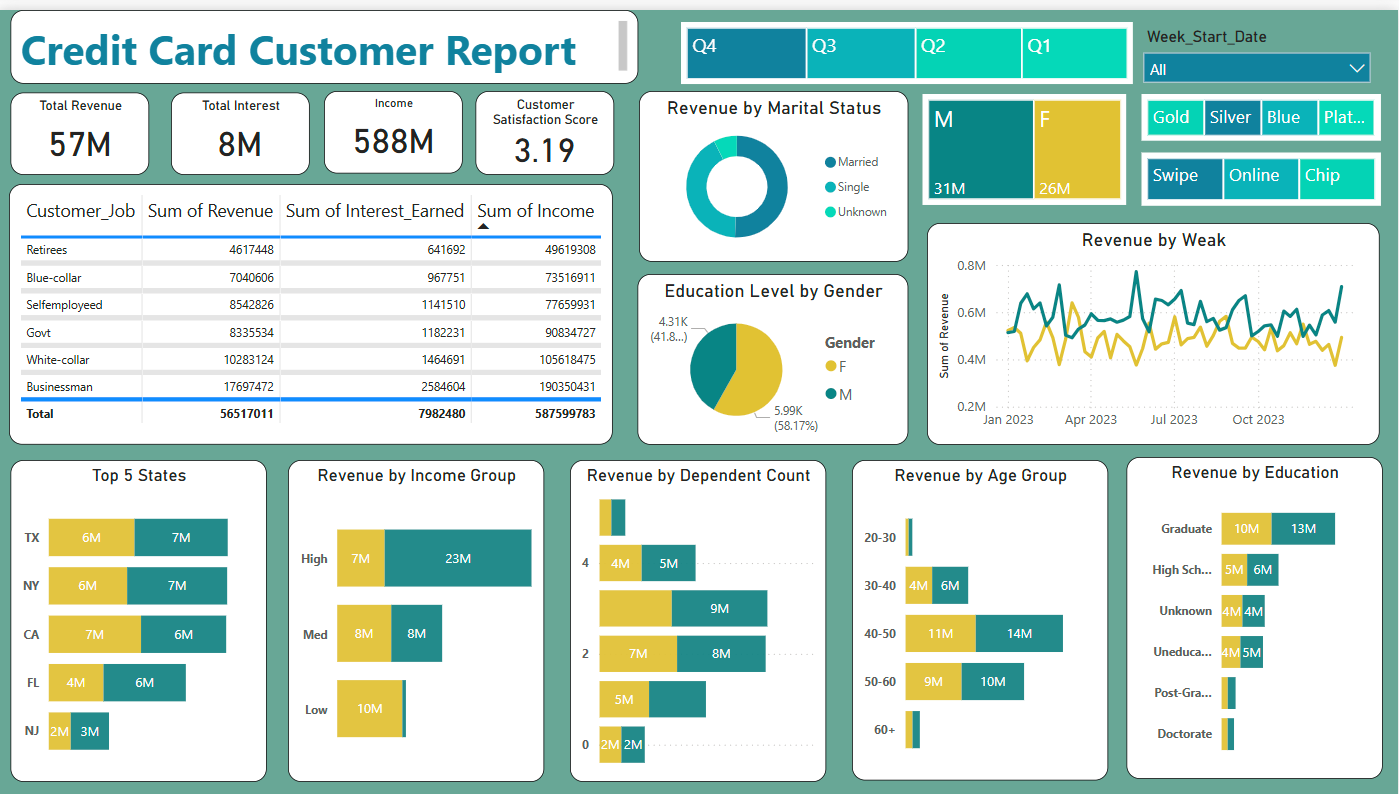

The page's visual inventory and layout, read from the dashboard file:
{"tool":"powerbi","page":{"name":"CC Customer","canvas":[1280,720],"ordinal":1},"visuals":[{"type":"textbox","box":[11.8,0,573.5,67.6],"z":0},{"type":"barChart","title":"Revenue by Income Group","fields":{"Y":["Sum(public cc_detail.Revenue)"],"Category":["public cust_detail.IncomeGroup"],"Series":["public cust_detail.Gender"]},"box":[266.2,410.3,233.8,294.1],"z":1000},{"type":"tableEx","fields":{"Values":["public cust_detail.Customer_Job","Sum(public cc_detail.Revenue)","Sum(public cc_detail.Interest_Earned)","Sum(public cust_detail.Income)"]},"box":[11,159.1,551.3,237.8],"z":2000},{"type":"card","title":"Total Revenue","fields":{"Values":["Sum(public cc_detail.Revenue)"]},"box":[11.8,75,126.5,75],"z":3000},{"type":"card","title":"Income","fields":{"Values":["Sum(public cust_detail.Income)"]},"box":[298.5,73.5,126.5,75],"z":4000},{"type":"card","title":"Total Interest","fields":{"Values":["Sum(public cc_detail.Interest_Earned)"]},"box":[158.8,75,126.5,75],"z":5000},{"type":"card","title":"Customer Satisfaction Score","fields":{"Values":["Avg(public cust_detail.Cust_Satisfaction_Score)"]},"box":[436.8,73.5,126.5,76.5],"z":6000},{"type":"slicer","fields":{"Values":["public cc_detail.Week_Start_Date"]},"box":[1037.1,11.4,227.1,65.7],"z":7000},{"type":"treemap","fields":{"Group":["public cc_detail.Qtr"],"Values":["Avg(public cc_detail.Client_Num)"]},"box":[625.3,11,412.7,56.7],"z":8000},{"type":"treemap","fields":{"Values":["Avg(public cc_detail.Client_Num)"],"Group":["public cc_detail.Card_Category"]},"box":[1045.7,77.1,218.6,42.9],"z":9000},{"type":"treemap","fields":{"Values":["Avg(public cc_detail.Client_Num)"],"Group":["public cc_detail.Use Chip"]},"box":[1045.7,130,218.6,48.6],"z":10000},{"type":"lineChart","title":"Revenue by Weak","fields":{"Y":["Sum(public cc_detail.Revenue)"],"Series":["public cust_detail.Gender"],"Category":["public cc_detail.Week_Start_Date.Variation.Date Hierarchy.Year","public cc_detail.Week_Start_Date.Variation.Date Hierarchy.Month","public cc_detail.Week_Start_Date.Variation.Date Hierarchy.Day"]},"box":[850,194.1,413.2,202.9],"z":11000},{"type":"treemap","fields":{"Group":["public cust_detail.Gender"],"Values":["Sum(public cc_detail.Revenue)"]},"box":[844.6,77,186.3,101.3],"z":12000},{"type":"barChart","title":"Revenue by Age Group","fields":{"Y":["Sum(public cc_detail.Revenue)"],"Category":["public cust_detail.AgeGroup"],"Series":["public cust_detail.Gender"]},"box":[780.9,410.3,233.8,292.6],"z":13000},{"type":"barChart","title":"Revenue by Dependent Count","fields":{"Y":["Sum(public cc_detail.Revenue)"],"Category":["public cust_detail.Dependent_Count"],"Series":["public cust_detail.Gender"]},"box":[523.5,410.3,233.8,294.1],"z":14000},{"type":"barChart","title":"Revenue by Education","fields":{"Y":["Sum(public cc_detail.Revenue)"],"Category":["public cust_detail.Education_Level"],"Series":["public cust_detail.Gender"]},"box":[1030.9,408.8,233.8,294.1],"z":15000},{"type":"barChart","title":"Top 5 States","fields":{"Y":["Sum(public cc_detail.Revenue)"],"Category":["public cust_detail.state_cd"],"Series":["public cust_detail.Gender"]},"box":[11.8,410.3,233.8,294.1],"z":16000},{"type":"donutChart","title":"Revenue by Marital Status","fields":{"Category":["public cust_detail.Marital_Status"],"Y":["Sum(public cc_detail.Revenue)"]},"box":[585.9,74,245.7,155.9],"z":17000},{"type":"pieChart","title":"Education Level by Gender","fields":{"Category":["public cust_detail.Gender"],"Y":["CountNonNull(public cust_detail.Education_Level)"]},"box":[584.4,241,247.3,155.9],"z":17001}]}

Visuals, with their boxes in screenshot pixels (x1, y1, x2, y2), scaled from the page's 1280x720 canvas onto the 1399x794 screenshot:
textbox: [x1=13, y1=0, x2=640, y2=75]
"Revenue by Income Group" barChart: [x1=291, y1=452, x2=546, y2=777]
tableEx - public cust_detail.Customer_Job x Sum(public cc_detail.Revenue): [x1=12, y1=175, x2=615, y2=438]
"Total Revenue" card: [x1=13, y1=83, x2=151, y2=165]
"Income" card: [x1=326, y1=81, x2=465, y2=164]
"Total Interest" card: [x1=174, y1=83, x2=312, y2=165]
"Customer Satisfaction Score" card: [x1=477, y1=81, x2=616, y2=165]
slicer - public cc_detail.Week_Start_Date: [x1=1134, y1=13, x2=1382, y2=85]
treemap - public cc_detail.Qtr x Avg(public cc_detail.Client_Num): [x1=683, y1=12, x2=1135, y2=75]
treemap - Avg(public cc_detail.Client_Num) x public cc_detail.Card_Category: [x1=1143, y1=85, x2=1382, y2=132]
treemap - Avg(public cc_detail.Client_Num) x public cc_detail.Use Chip: [x1=1143, y1=143, x2=1382, y2=197]
"Revenue by Weak" lineChart: [x1=929, y1=214, x2=1381, y2=438]
treemap - public cust_detail.Gender x Sum(public cc_detail.Revenue): [x1=923, y1=85, x2=1127, y2=197]
"Revenue by Age Group" barChart: [x1=853, y1=452, x2=1109, y2=775]
"Revenue by Dependent Count" barChart: [x1=572, y1=452, x2=828, y2=777]
"Revenue by Education" barChart: [x1=1127, y1=451, x2=1382, y2=775]
"Top 5 States" barChart: [x1=13, y1=452, x2=268, y2=777]
"Revenue by Marital Status" donutChart: [x1=640, y1=82, x2=909, y2=254]
"Education Level by Gender" pieChart: [x1=639, y1=266, x2=909, y2=438]
